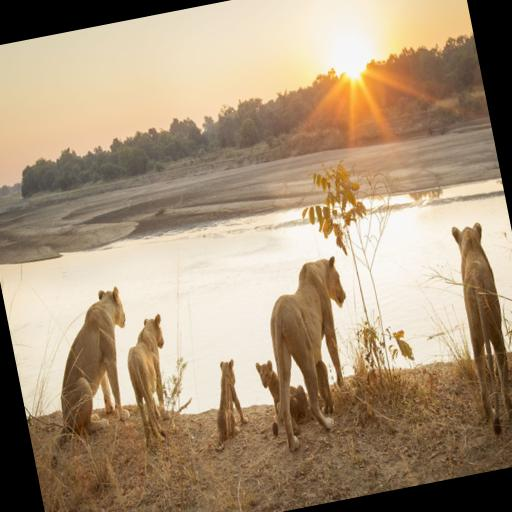lions: (208, 254, 385, 456), (40, 262, 184, 478)
